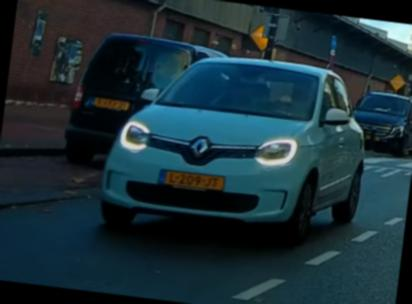license-plate: (155, 168, 225, 190)
